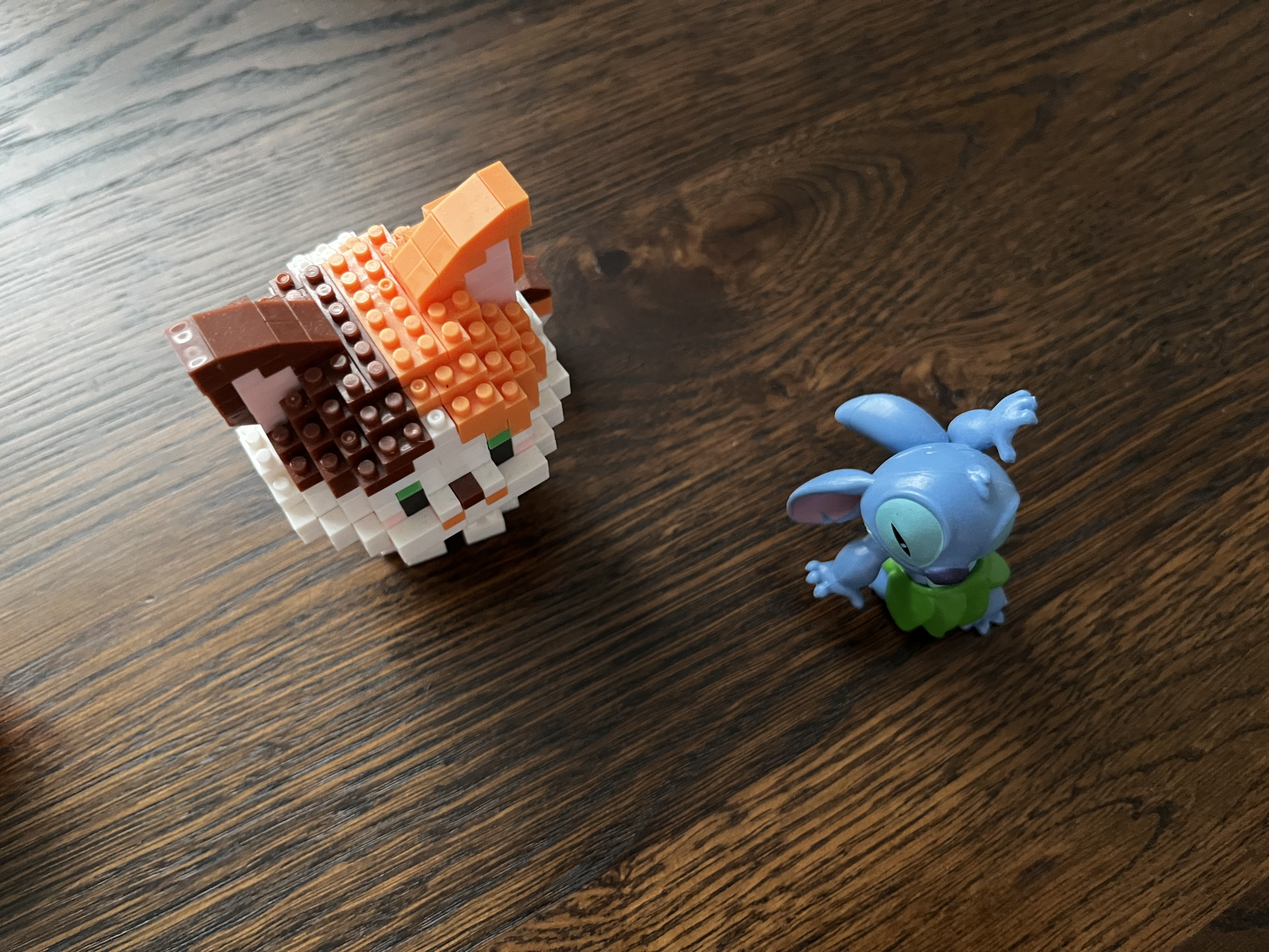cat: (161, 156, 607, 572)
stitch: (775, 374, 1065, 646)
